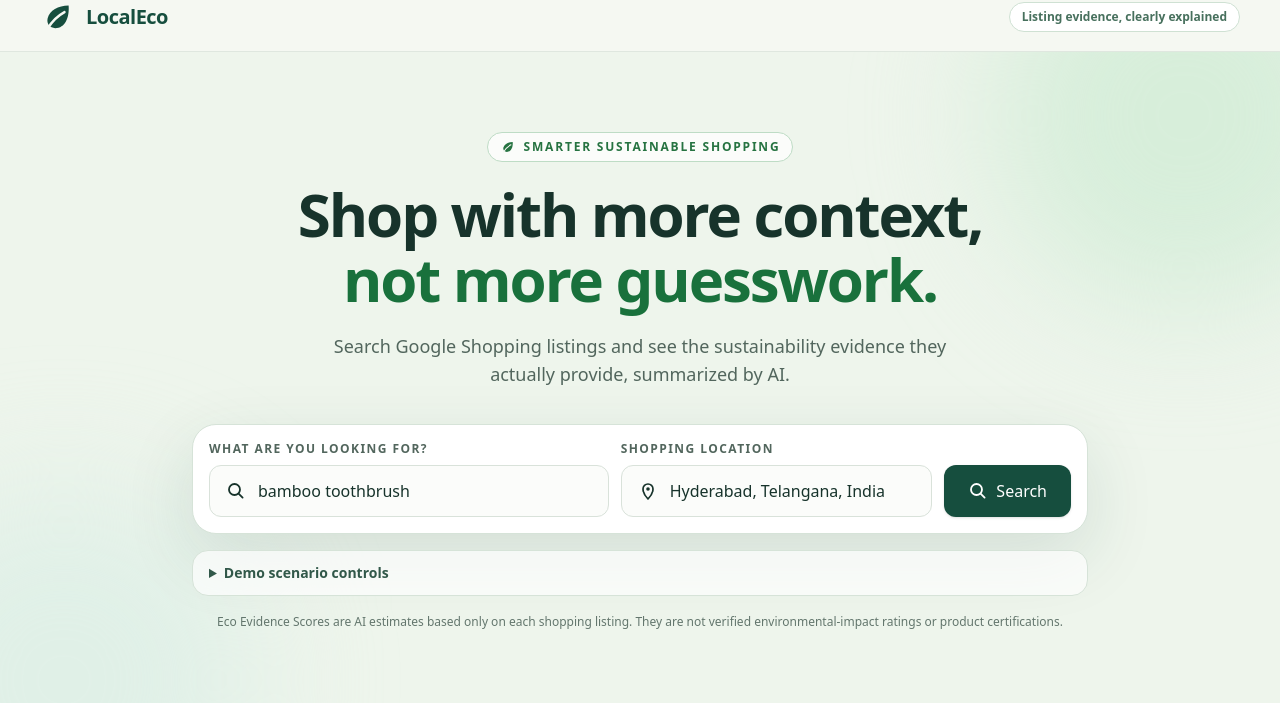
SearchExperience › renders a server error explicitly
This screenshot has width=1280, height=703.
Click the button "Search". click: (1008, 491)
box: [944,465,1071,517]
(page scrolled)
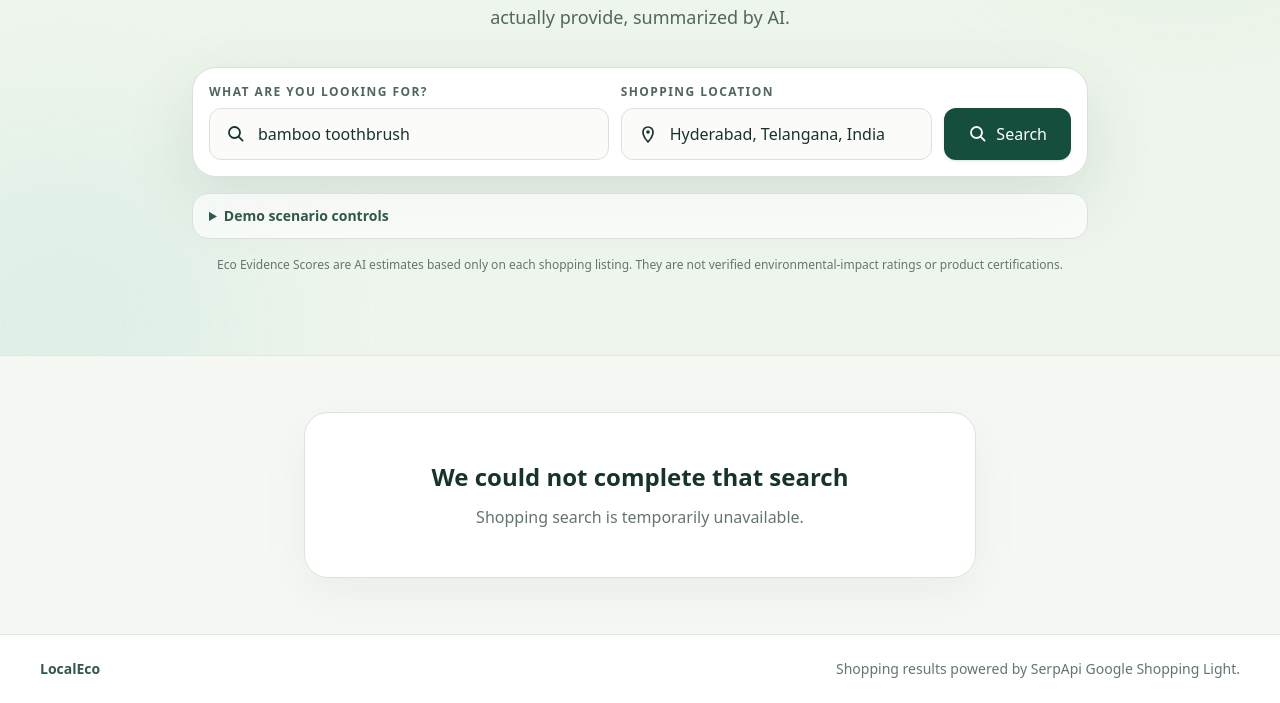
Check: the text "Shopping search is temporarily unavailable." is shown 2 times
Check: the heading "We could not complete that search" is shown, box [432,460,848,493]
